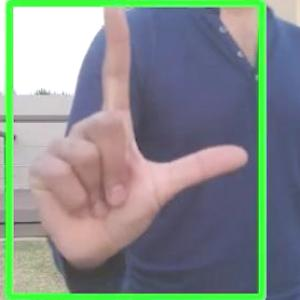land_hand: (19, 0, 257, 274)
